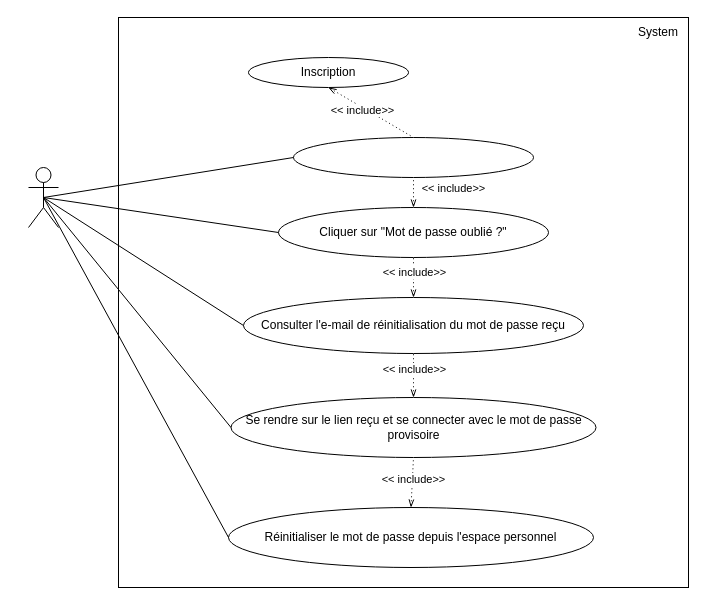
Image size: 706x605. Some labels were removed from this diagram. Each missing label, with the centre of its shape:
Se rendre sur la page de Connexion: (x=413, y=157)
Utilisateur: (x=43, y=197)
